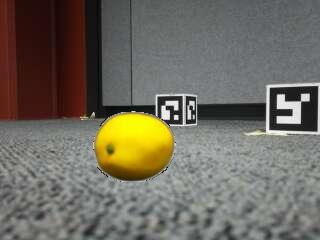lemon: (95, 114, 173, 180)
